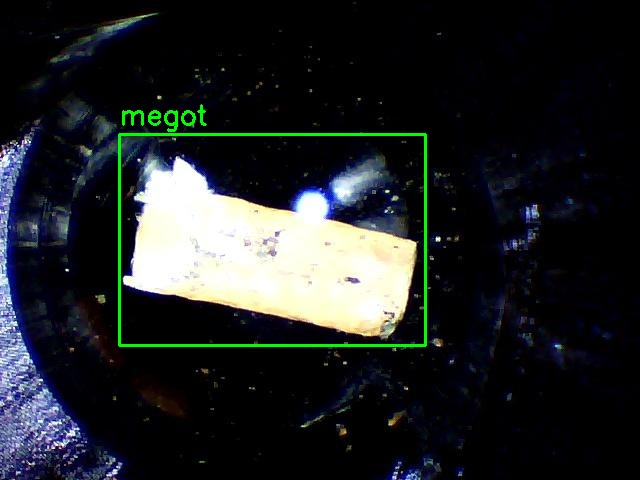megot: (119, 134, 425, 345)
